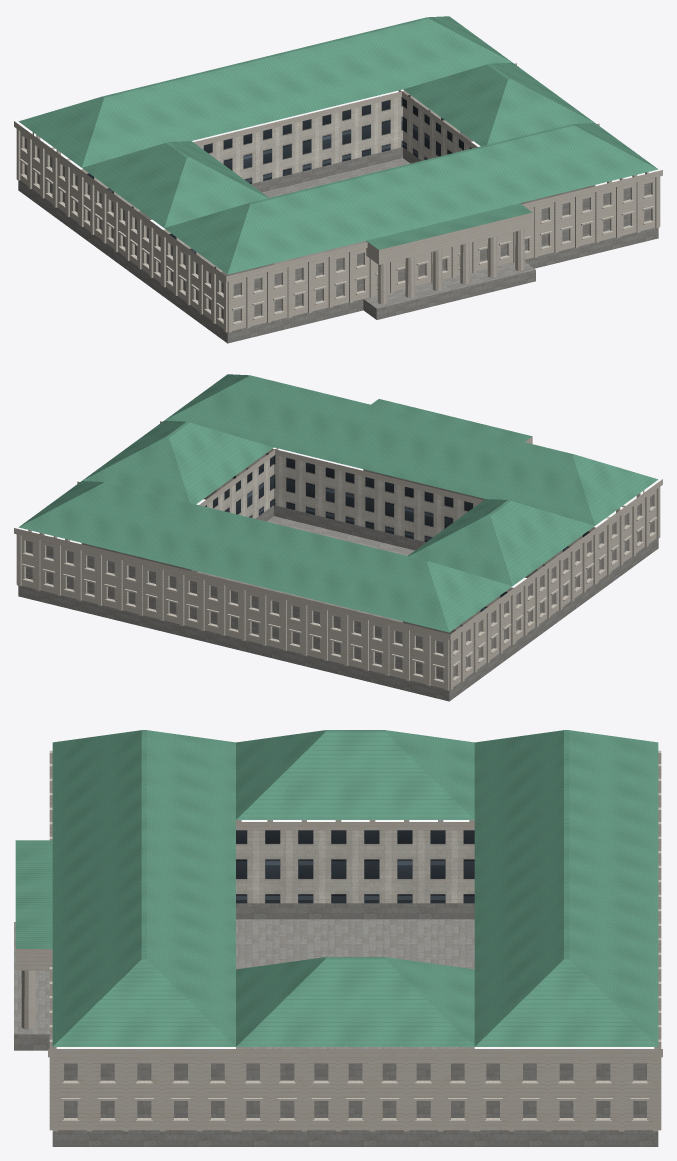
The model's file is nas_building.glb.
3 views of the same model, one above another, from view 1: azimuth 30°, elevation 25°; view 2: azimuth 150°, elevation 25°; view 3: azimuth 270°, elevation 25° (orthographic). The views are drawn at different scales.
Parts seen in each view (by area): view 1: nas_building; view 2: nas_building; view 3: nas_building.
Boxes of the visible parts, x1=… form: nas_building: x1=14, y1=16, x2=662, y2=343; nas_building: x1=14, y1=374, x2=662, y2=701; nas_building: x1=14, y1=730, x2=662, y2=1146.
Size of the model in its own units: 79.5 by 18 by 70.7.
4 materials, 4 textured.
